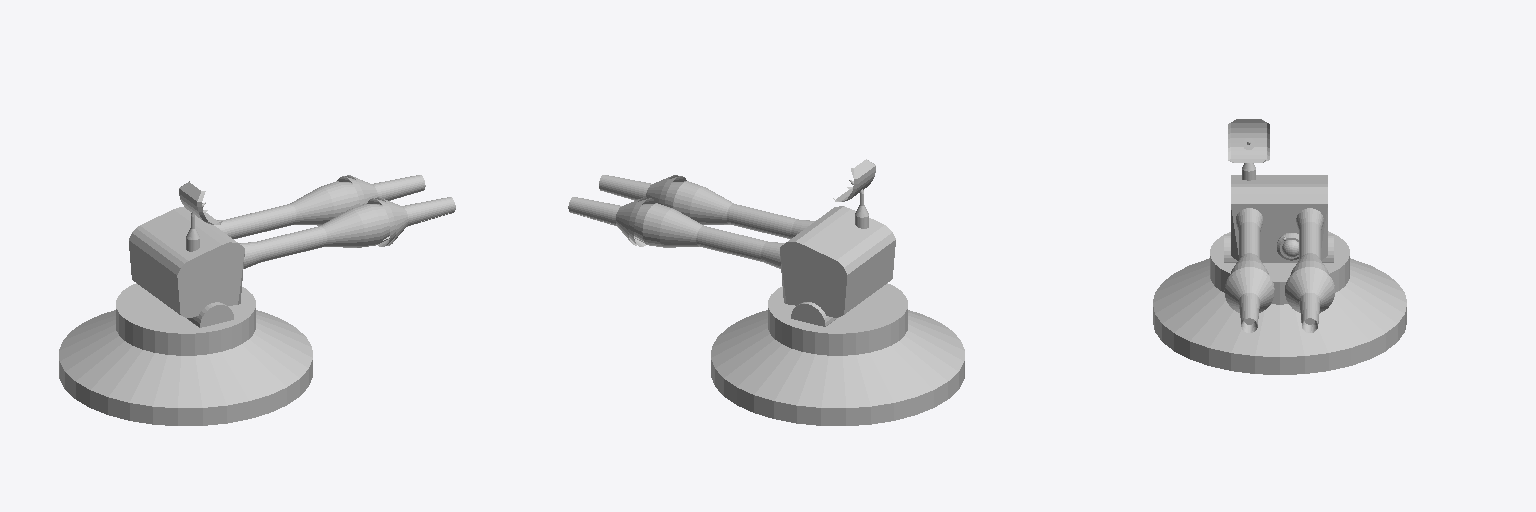
The model's file is Raumschiff Turret normal.obj.
3 views of the same model, side by side, from view 1: azimuth 30°, elevation 25°; view 2: azimuth 150°, elevation 25°; view 3: azimuth 270°, elevation 25° (orthographic).
Visible parts, largest first — view 1: Base_Cylinder.001, Barrels_Cylinder, Body_Cube, Antenna_Cylinder.005, Lifter_Cylinder.004; view 2: Base_Cylinder.001, Barrels_Cylinder, Body_Cube, Antenna_Cylinder.005, Lifter_Cylinder.004; view 3: Base_Cylinder.001, Barrels_Cylinder, Body_Cube, Antenna_Cylinder.005.
Boxes of the visible parts, box(x1,y1,x2,y2) form: Base_Cylinder.001: box(59, 283, 312, 425); Barrels_Cylinder: box(214, 175, 455, 268); Body_Cube: box(129, 207, 244, 317); Antenna_Cylinder.005: box(179, 181, 222, 251); Lifter_Cylinder.004: box(187, 302, 233, 327); Base_Cylinder.001: box(711, 283, 964, 425); Barrels_Cylinder: box(568, 175, 814, 268); Body_Cube: box(780, 206, 895, 317); Antenna_Cylinder.005: box(833, 159, 875, 228); Lifter_Cylinder.004: box(791, 302, 838, 326); Base_Cylinder.001: box(1153, 231, 1406, 374); Barrels_Cylinder: box(1224, 208, 1334, 332); Body_Cube: box(1231, 175, 1327, 262); Antenna_Cylinder.005: box(1228, 119, 1269, 180).
Size of the model in its own units: 11.17 by 5.89 by 6.84.